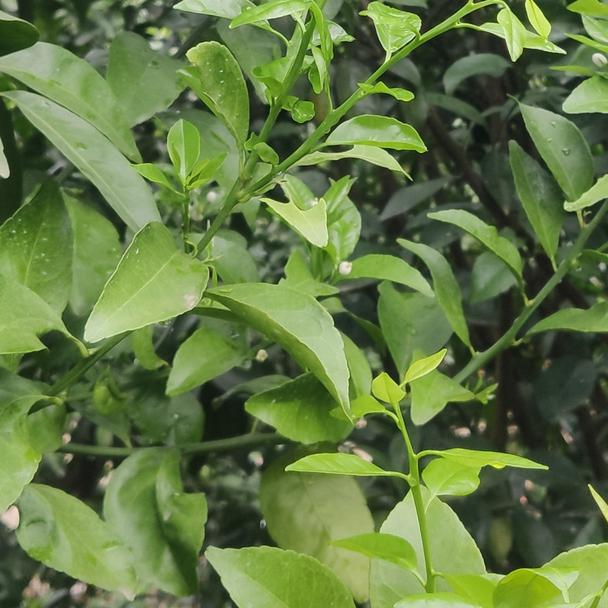shoot: (332, 357, 483, 584)
